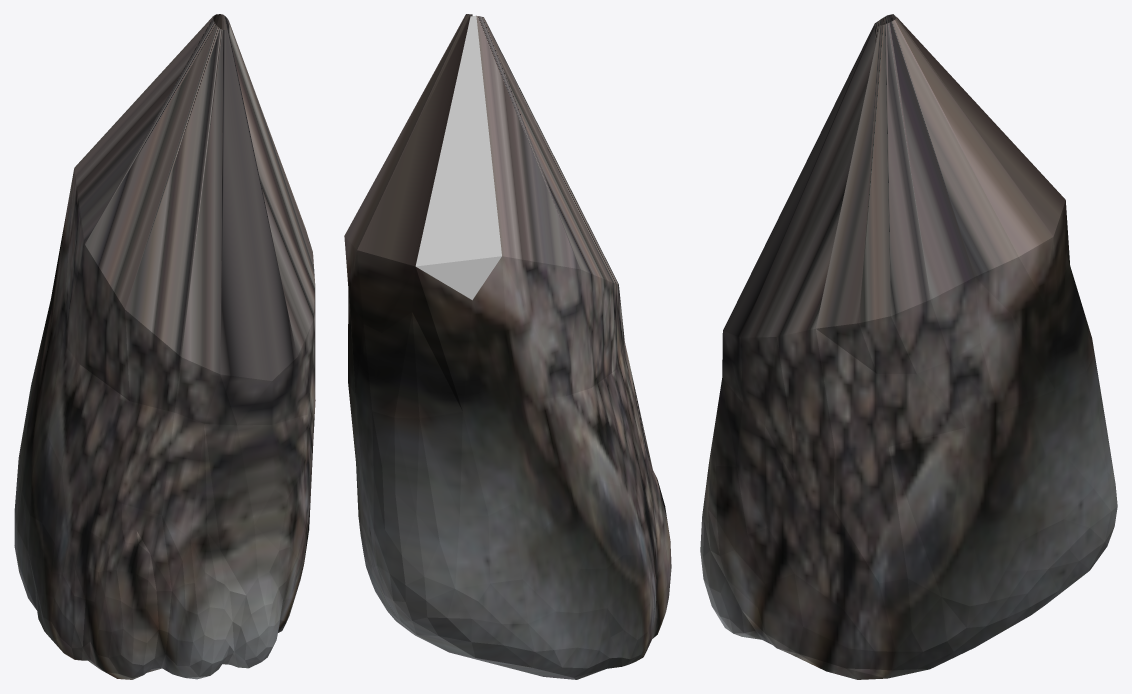
The model's file is Tortoise_LeftRearleg_new5.dae.
3 views of the same model, side by side, from view 1: azimuth 30°, elevation 25°; view 2: azimuth 150°, elevation 25°; view 3: azimuth 270°, elevation 25° (orthographic). The views are drawn at different scales.
Parts seen in each view (by area): view 1: tortoise_004; view 2: tortoise_004; view 3: tortoise_004.
Boxes of the visible parts, left/top/right/bottom form: tortoise_004: left=14, top=14, right=315, bottom=679; tortoise_004: left=344, top=14, right=671, bottom=679; tortoise_004: left=700, top=14, right=1117, bottom=679.
Size of the model in its own units: 2.87 by 3.75 by 6.48.
Materials: 2 (1 with a texture image).
